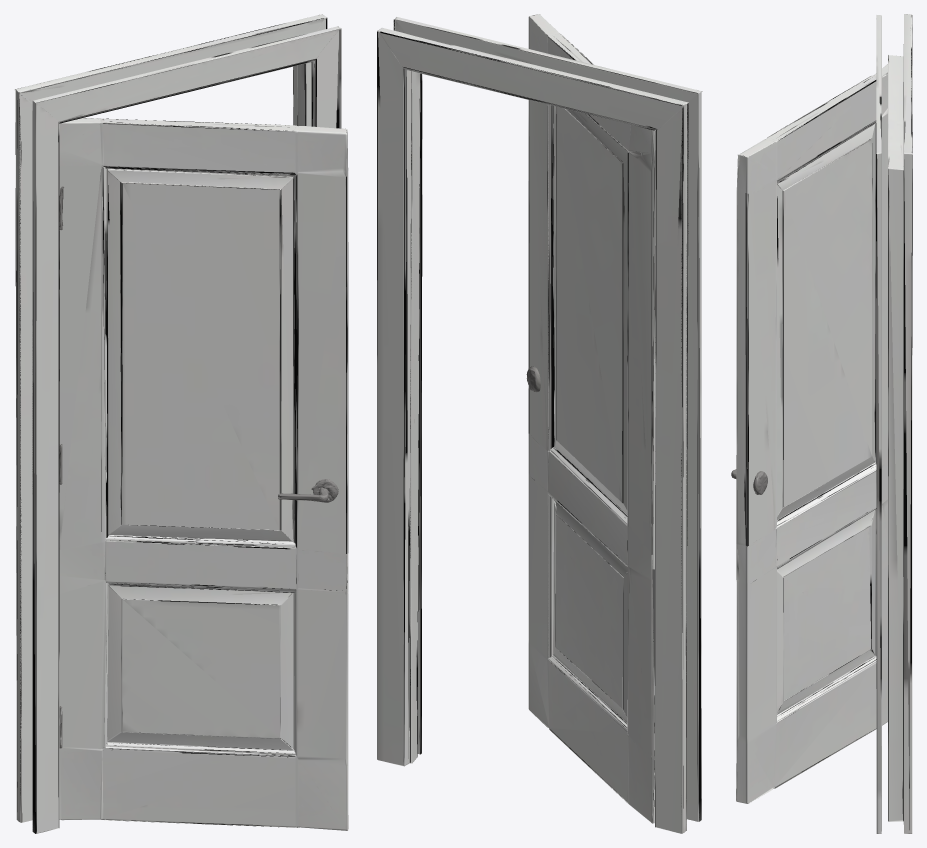
Rendered from desktop.glb.
The picture shows the model from 3 angles, left to right: view 1: azimuth 30°, elevation 25°; view 2: azimuth 150°, elevation 25°; view 3: azimuth 270°, elevation 25°; orthographic projection. The views are drawn at different scales.
Visible parts, largest first — view 1: bathroomdoor; view 2: bathroomdoor; view 3: bathroomdoor.
Part boxes in pixels (left/top/right/bottom): bathroomdoor: left=14, top=14, right=348, bottom=833; bathroomdoor: left=377, top=14, right=702, bottom=833; bathroomdoor: left=731, top=14, right=912, bottom=833.
Bounding box in the file's own units: 0.9272 × 2.1 × 0.5073.
Materials: 1 (1 with a texture image).
